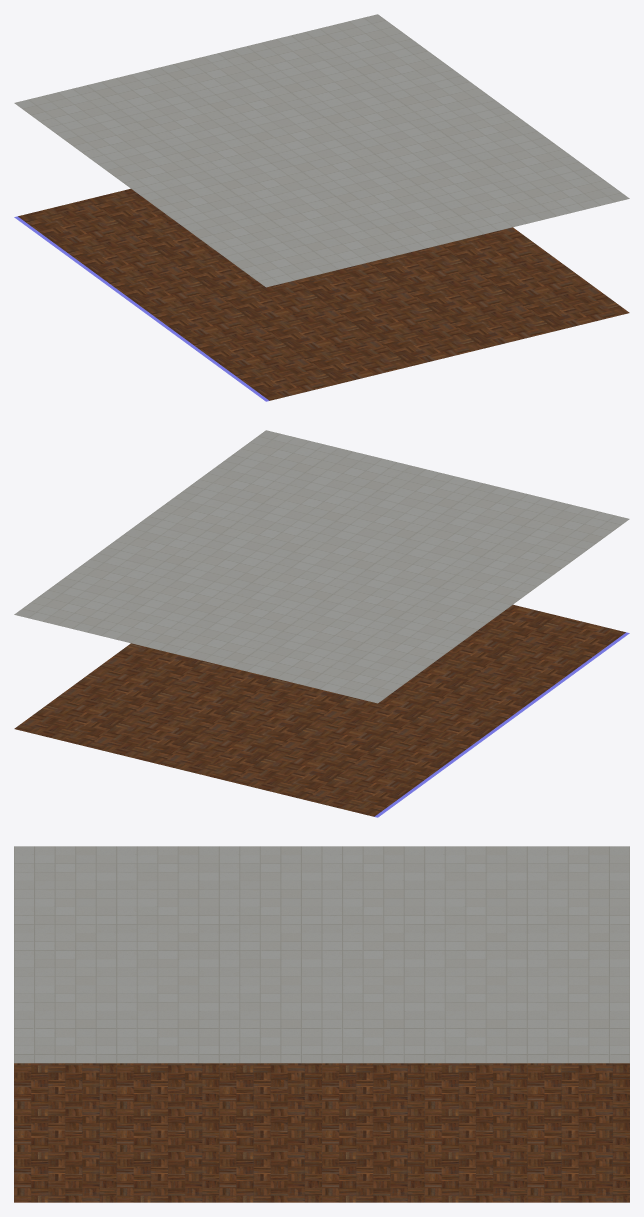
File: M_5X6Tile.fbx
The picture shows the model from 3 angles, top to bottom: view 1: azimuth 30°, elevation 25°; view 2: azimuth 150°, elevation 25°; view 3: azimuth 270°, elevation 25°; orthographic projection. The views are drawn at different scales.
Visible parts, largest first — view 1: _5X6Tile; view 2: _5X6Tile; view 3: _5X6Tile.
Part boxes in pixels (box(x1,y1,x2,y2)): _5X6Tile: box(14, 14, 629, 401); _5X6Tile: box(14, 430, 629, 817); _5X6Tile: box(14, 846, 629, 1202).
Bounding box in the file's own units: 1000 × 300 × 1200.
